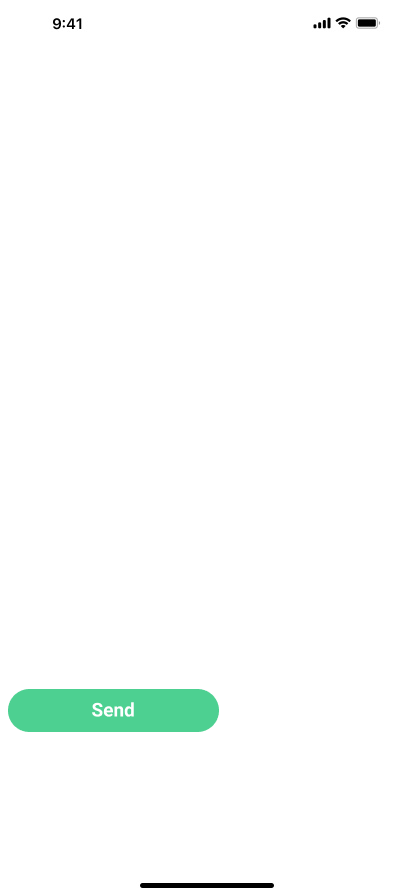Buttons: (8, 689, 219, 732)
Home Indicator: (0, 862, 414, 896)
Status Bar: (0, 0, 414, 44)
